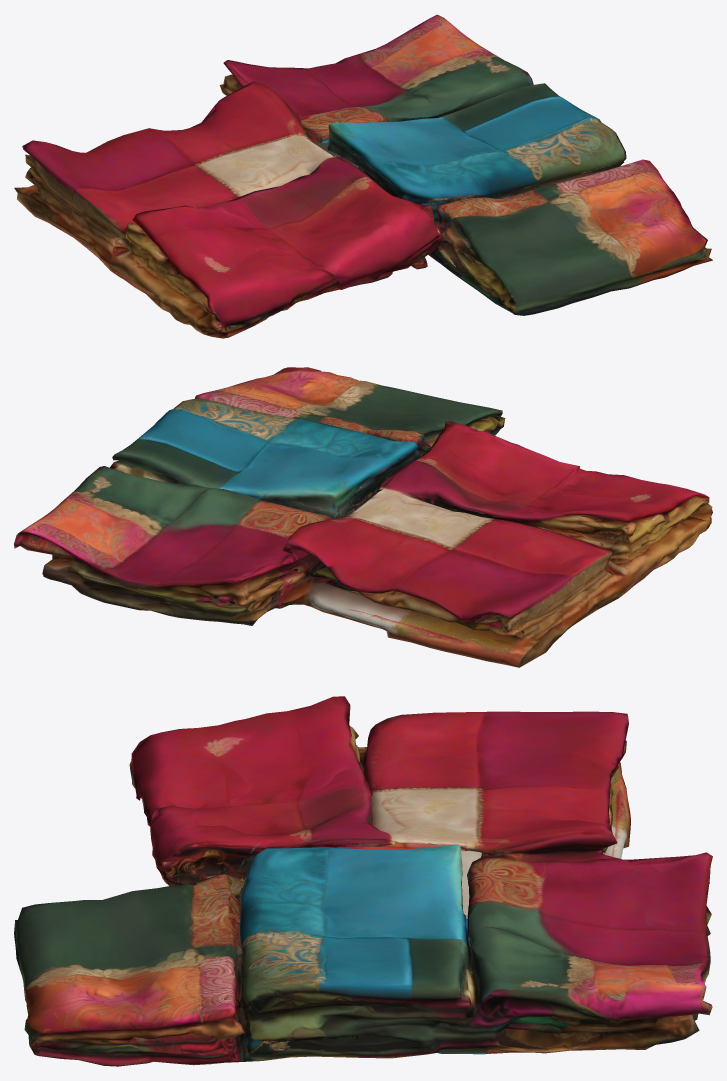
Rendered from silk.glb.
3 renders of one model, top to bottom at view 1: azimuth 30°, elevation 25°; view 2: azimuth 150°, elevation 25°; view 3: azimuth 270°, elevation 25°, orthographic. The views are drawn at different scales.
Bounding box in the file's own units: 2 × 0.311 × 1.99.
Materials: 1 (1 with a texture image).
